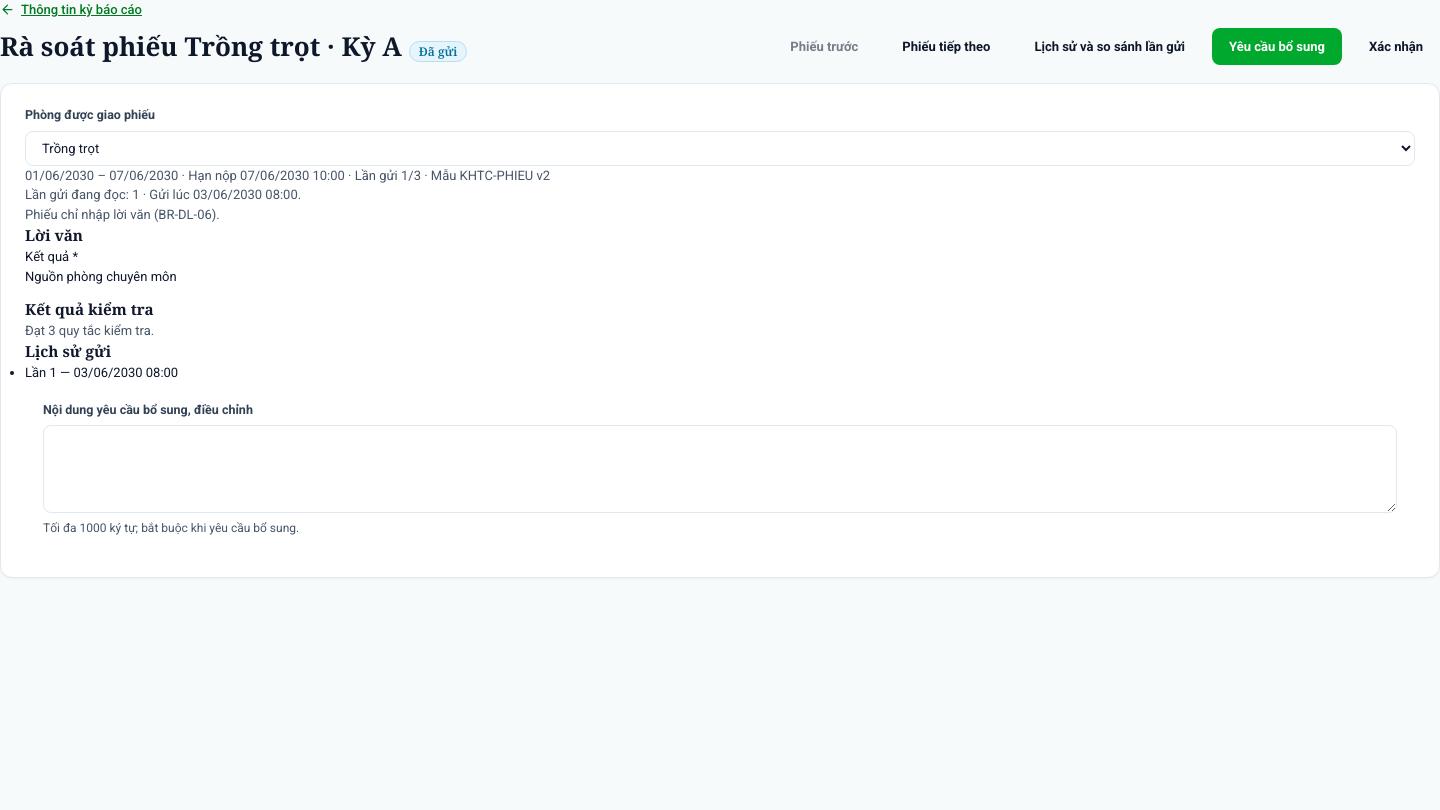
review241 — đường dẫn, quyền và ghi chú › nội dung nguồn chỉ đọc và ghi chú bắt buộc có nhãn/lỗi nối đúng ô
expect the text "Nguồn phòng chuyên môn" is shown: met, box x1=25 y1=268 x2=177 y2=284
expect the number of text boxes is 1: met, box x1=43 y1=425 x2=1397 y2=513
Click the button "Yêu cầu bổ sung" at (1277, 46), box x1=1212 y1=28 x2=1342 y2=65
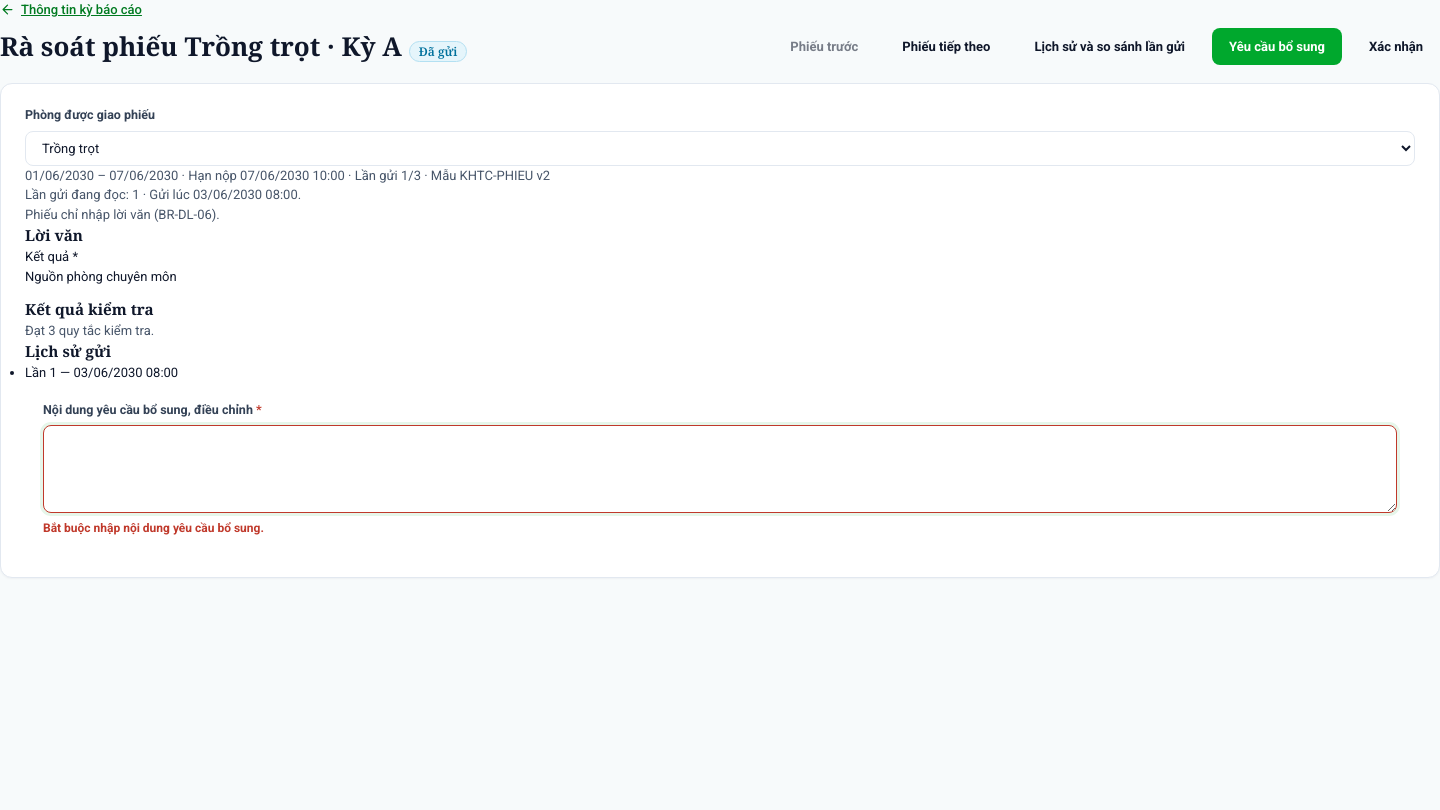
Click the button "Xác nhận" at (1396, 46), box x1=1352 y1=28 x2=1439 y2=65
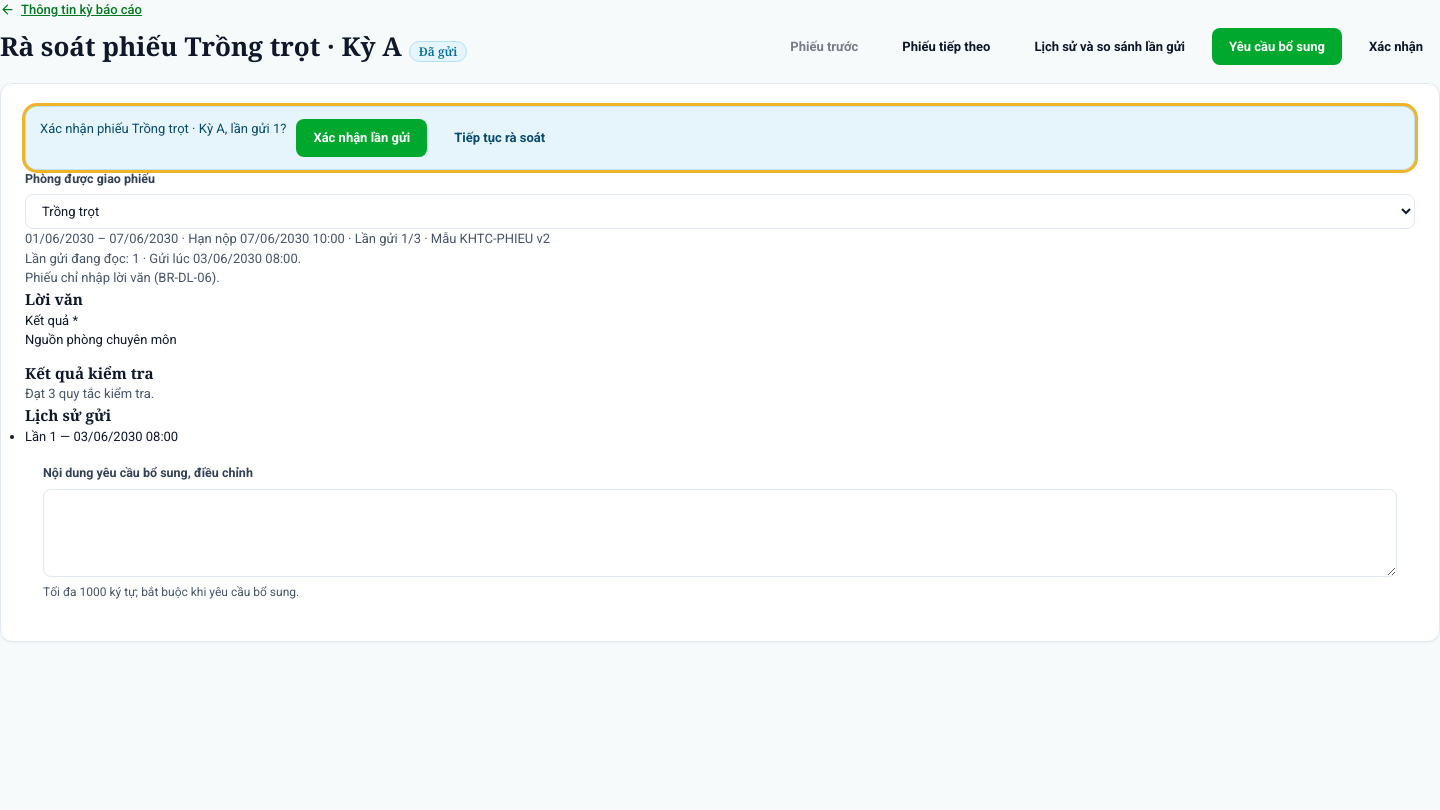
expect the dialog named "Xác nhận phiếu số liệu" is shown: met, box x1=25 y1=106 x2=1415 y2=170
